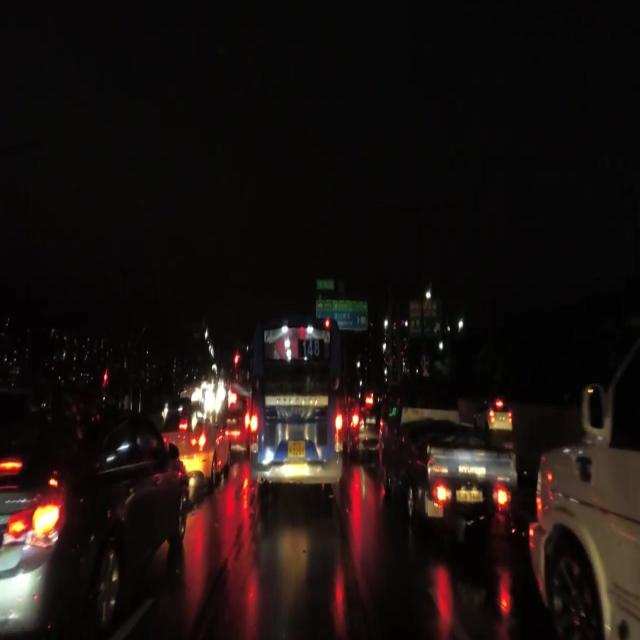Car: (0, 385, 184, 632), (160, 405, 227, 497), (347, 403, 382, 453), (217, 403, 250, 453)
